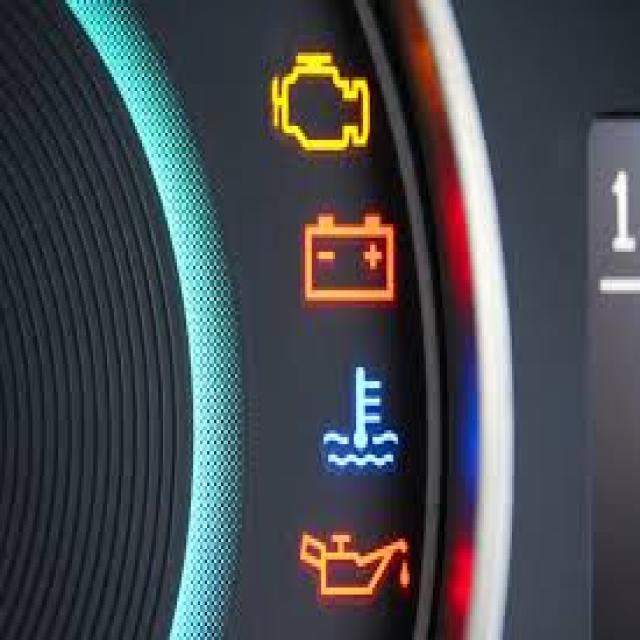kontrolka: (262, 36, 380, 170), (294, 523, 425, 631), (311, 358, 413, 495), (297, 208, 413, 327)
